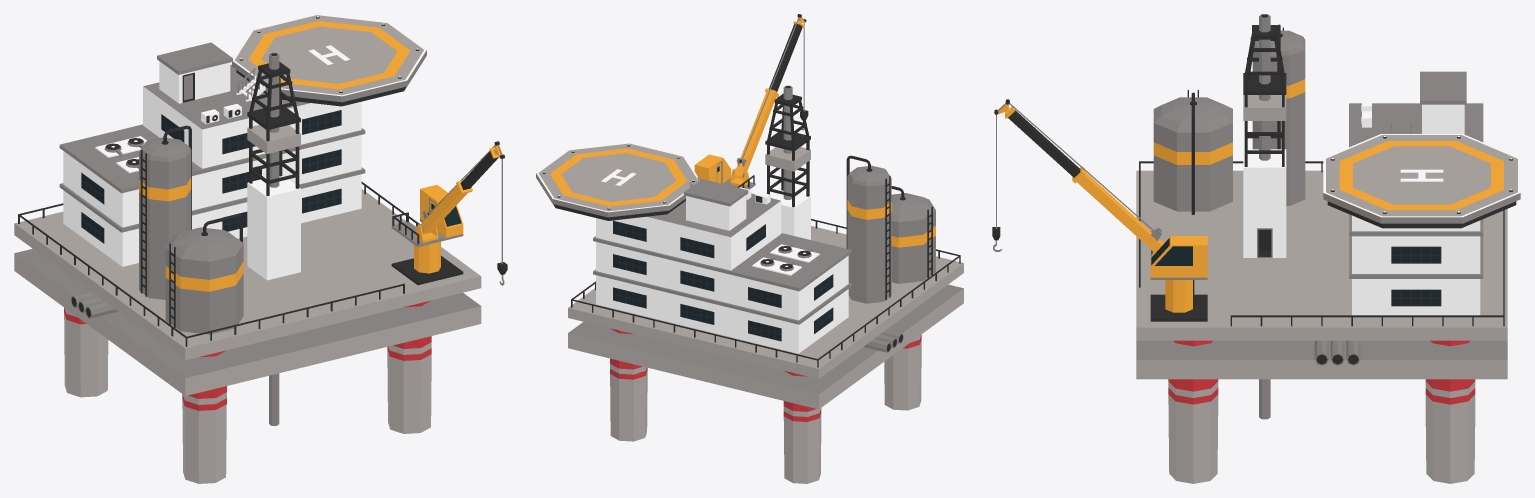
The model's file is sea-refinery.glb.
3 renders of one model, left to right at view 1: azimuth 30°, elevation 25°; view 2: azimuth 150°, elevation 25°; view 3: azimuth 270°, elevation 25°, orthographic. The views are drawn at different scales.
Visible parts, largest first — view 1: sea-refinery; view 2: sea-refinery; view 3: sea-refinery.
Boxes of the visible parts, <box> form: sea-refinery: <box>14,14,507,483</box>; sea-refinery: <box>536,14,963,483</box>; sea-refinery: <box>992,14,1520,483</box>.
Size of the model in its own units: 32.11 by 31.16 by 36.98.
1 material, 1 textured.
